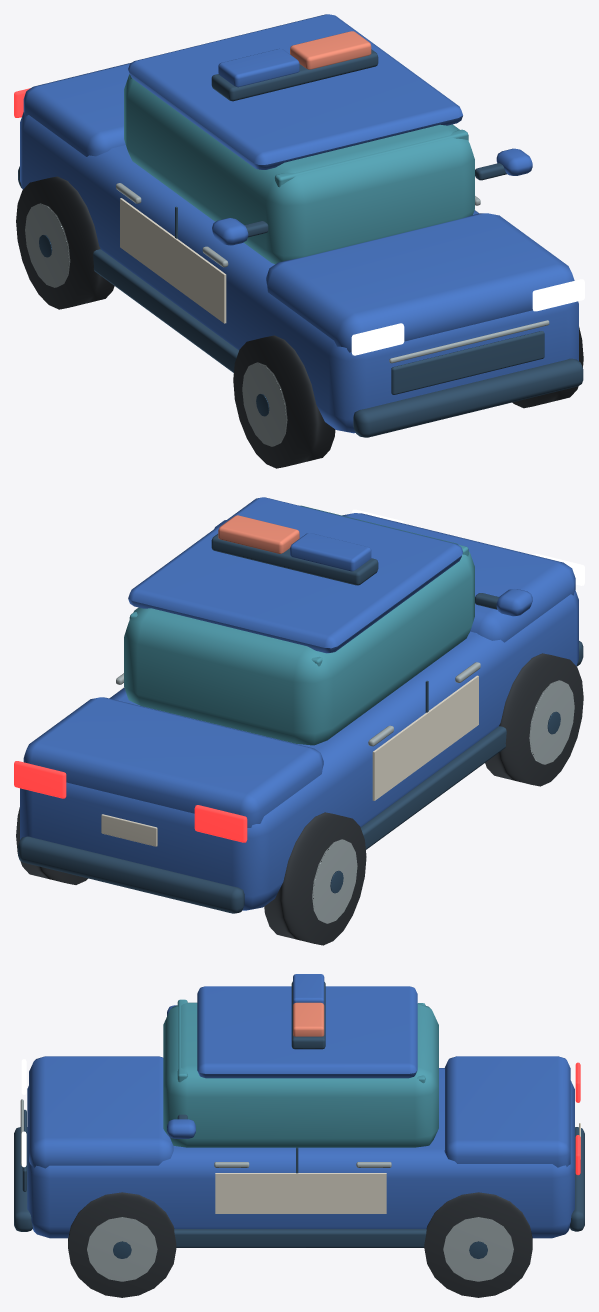
The model's file is HL_Car_PoliceInterceptor.fbx.
The picture shows the model from 3 angles, top to bottom: view 1: azimuth 30°, elevation 25°; view 2: azimuth 150°, elevation 25°; view 3: azimuth 270°, elevation 25°; orthographic projection. The views are drawn at different scales.
Visible parts, largest first — view 1: Cabin | glass belt.001, Body | enamel shell.001, Body | front nose.001, Cabin | colored roof.001, Bumper | front.001, Wheel | tyre.004, Body | rear deck.001, Wheel | tyre.005, Police | door band L, Grille | intake.001, Side | lower skirt.002, Wheel | alloy disc.005 (+11 smaller); view 2: Body | enamel shell.001, Cabin | glass belt.001, Cabin | colored roof.001, Body | rear deck.001, Body | front nose.001, Wheel | tyre.005, Bumper | rear.001, Wheel | tyre.004, Police | door band L, Side | lower skirt.002, Wheel | alloy disc.005, Wheel | alloy disc.004 (+8 smaller); view 3: Body | enamel shell.001, Cabin | glass belt.001, Cabin | colored roof.001, Body | front nose.001, Body | rear deck.001, Police | door band R, Wheel | tyre.006, Wheel | tyre.007, Side | lower skirt.003, Wheel | alloy disc.006, Wheel | alloy disc.007, Bumper | front.001 (+5 smaller).
Part boxes in pixels (box(x1,y1,x2,y2)): Cabin | glass belt.001: box(124, 74, 474, 264); Body | enamel shell.001: box(20, 112, 578, 433); Body | front nose.001: box(266, 213, 574, 352); Cabin | colored roof.001: box(128, 14, 462, 169); Bumper | front.001: box(353, 358, 583, 437); Wheel | tyre.004: box(233, 335, 335, 468); Body | rear deck.001: box(23, 62, 131, 156); Wheel | tyre.005: box(16, 176, 114, 309); Police | door band L: box(120, 198, 226, 323); Grille | intake.001: box(391, 331, 544, 394); Side | lower skirt.002: box(93, 249, 238, 372); Wheel | alloy disc.005: box(25, 203, 70, 287); Body | enamel shell.001: box(20, 590, 578, 910); Cabin | glass belt.001: box(124, 505, 474, 745); Cabin | colored roof.001: box(128, 497, 462, 653); Body | rear deck.001: box(23, 697, 323, 827); Body | front nose.001: box(342, 513, 575, 642); Wheel | tyre.005: box(264, 812, 366, 945); Bumper | rear.001: box(18, 836, 244, 913); Wheel | tyre.004: box(485, 653, 583, 786); Police | door band L: box(372, 675, 478, 800); Side | lower skirt.002: box(360, 726, 506, 849); Wheel | alloy disc.005: box(312, 839, 357, 923); Wheel | alloy disc.004: box(529, 680, 574, 764); Body | enamel shell.001: box(27, 1068, 574, 1238); Cabin | glass belt.001: box(163, 1002, 438, 1147); Cabin | colored roof.001: box(197, 986, 417, 1078); Body | front nose.001: box(29, 1056, 173, 1168); Body | rear deck.001: box(444, 1056, 570, 1167); Police | door band R: box(215, 1173, 386, 1213); Wheel | tyre.006: box(68, 1192, 176, 1297); Wheel | tyre.007: box(424, 1192, 532, 1297); Side | lower skirt.003: box(174, 1229, 426, 1247); Wheel | alloy disc.006: box(87, 1217, 157, 1281); Wheel | alloy disc.007: box(443, 1217, 513, 1281); Bumper | front.001: box(14, 1127, 32, 1231).
Size of the model in its own units: 233 by 211 by 454.
